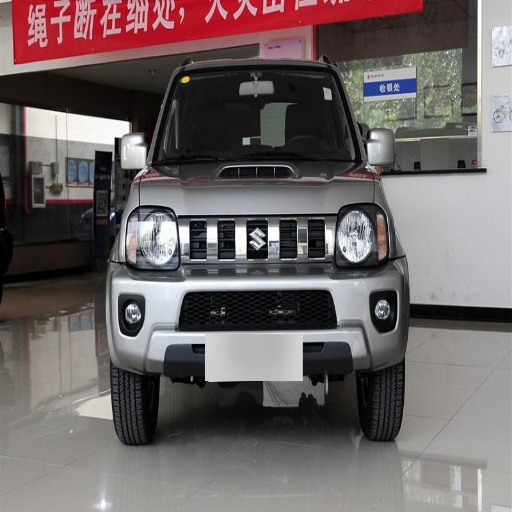front_bumper: (109, 214, 407, 381)
front_right_light: (113, 205, 179, 272)
hood: (138, 161, 374, 215)
